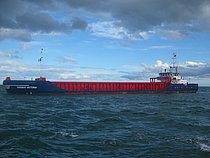Ship: (2, 72, 203, 97)
